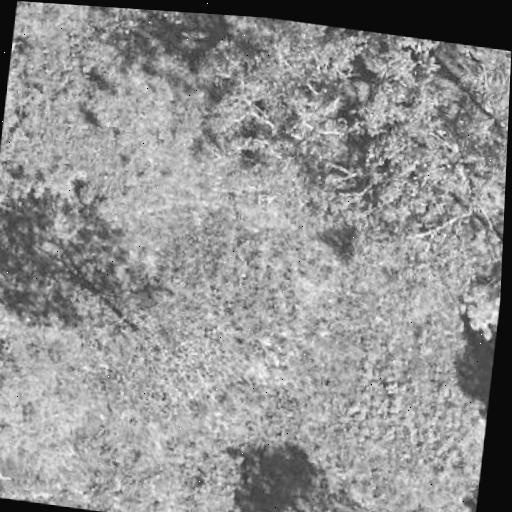tree-top: (78, 271, 244, 416), (0, 355, 72, 481)
